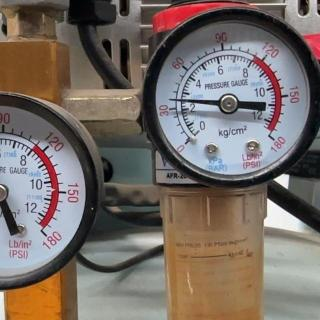gauge: (143, 1, 320, 191), (0, 89, 104, 295), (175, 131, 201, 155), (217, 93, 239, 115), (263, 128, 281, 148), (35, 224, 53, 244), (0, 183, 9, 203), (165, 96, 175, 104)
